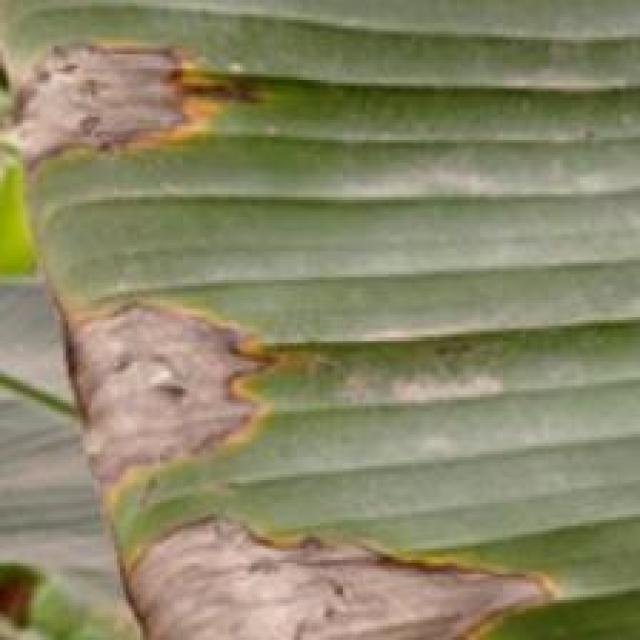Bacterial_spot: (122, 493, 570, 640), (54, 241, 286, 501), (0, 23, 270, 198)
